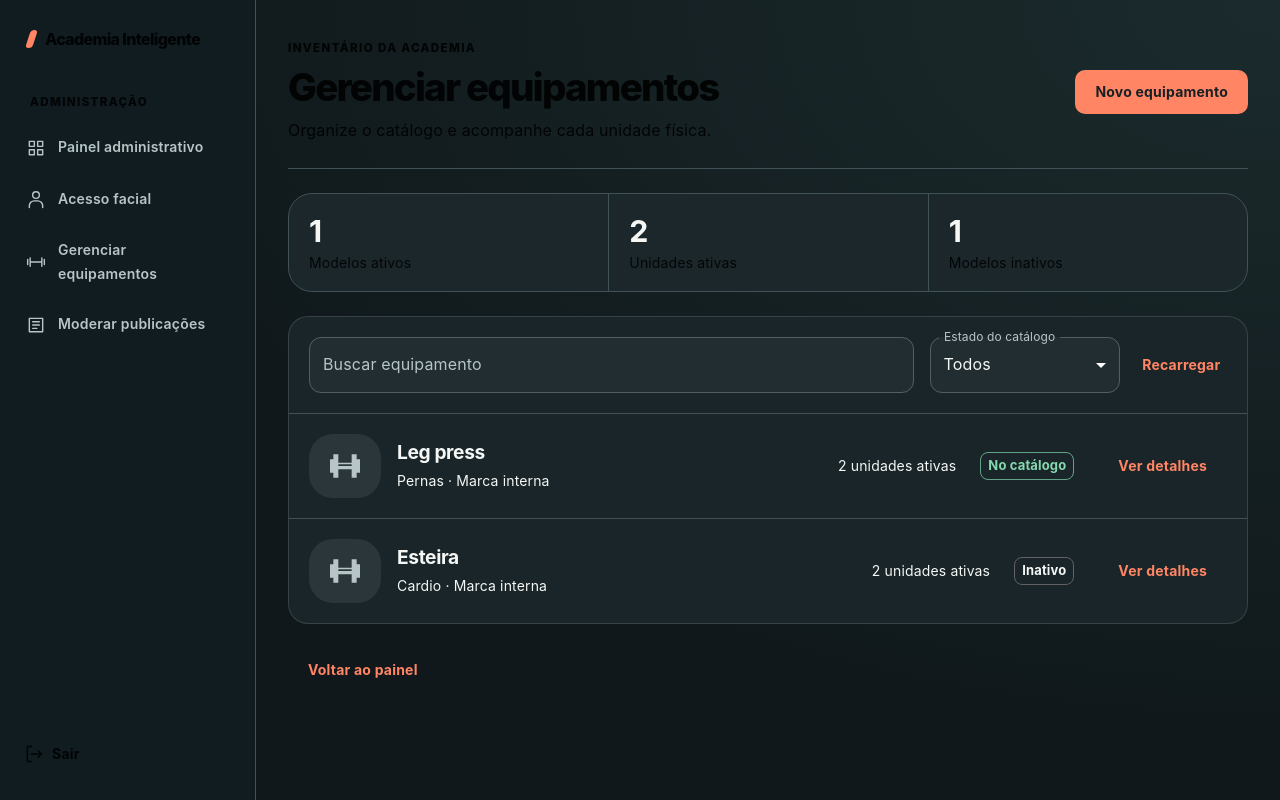
Test case: edits unit metadata while preserving its separate operational state
The image size is (1280, 800).
Click the button with aria-label "Ver detalhes de Leg press": (1163,466) x1=1098 y1=444 x2=1227 y2=488
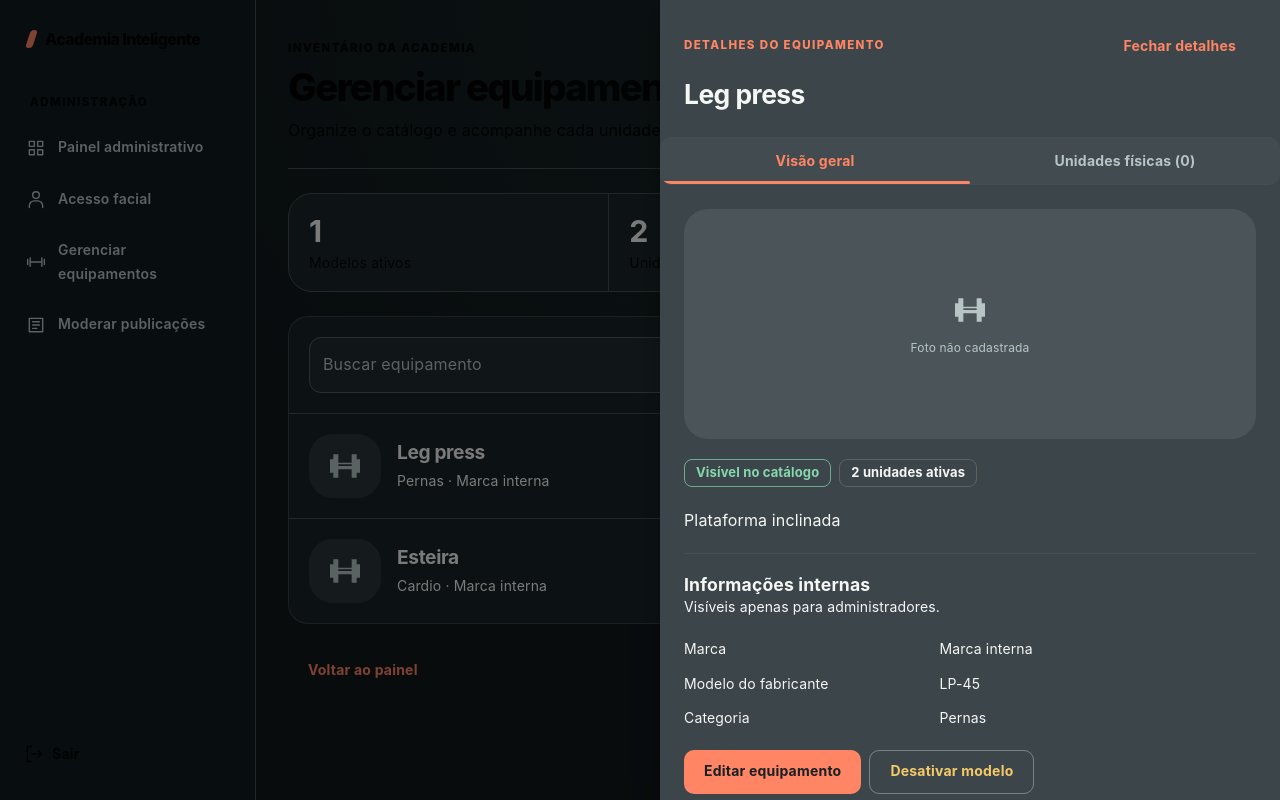
Click the tab "Unidades físicas (0)": (1125,161) x1=970 y1=137 x2=1279 y2=185
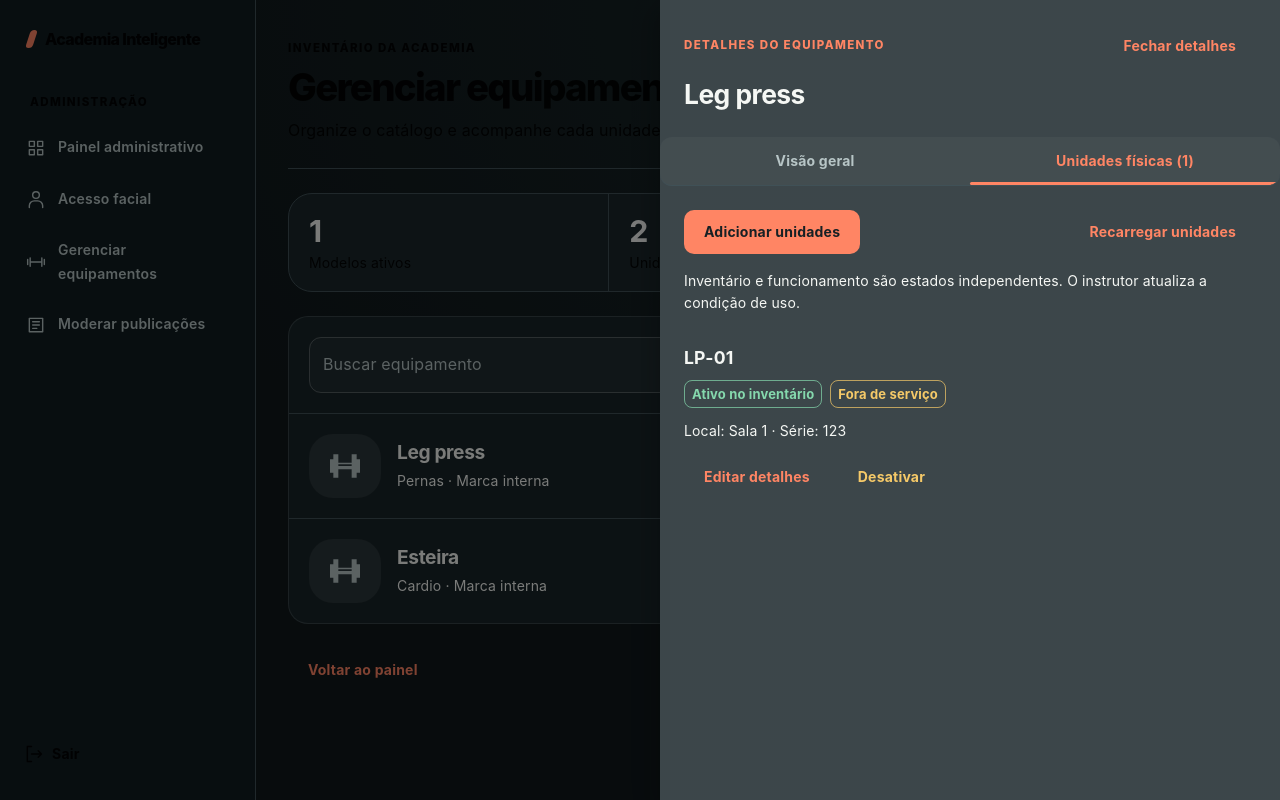
Expected: the text "Fora de serviço" is shown, x1=831 y1=382 x2=945 y2=407
Click the button with aria-label "Editar LP-01": (757,477) x1=684 y1=455 x2=830 y2=499
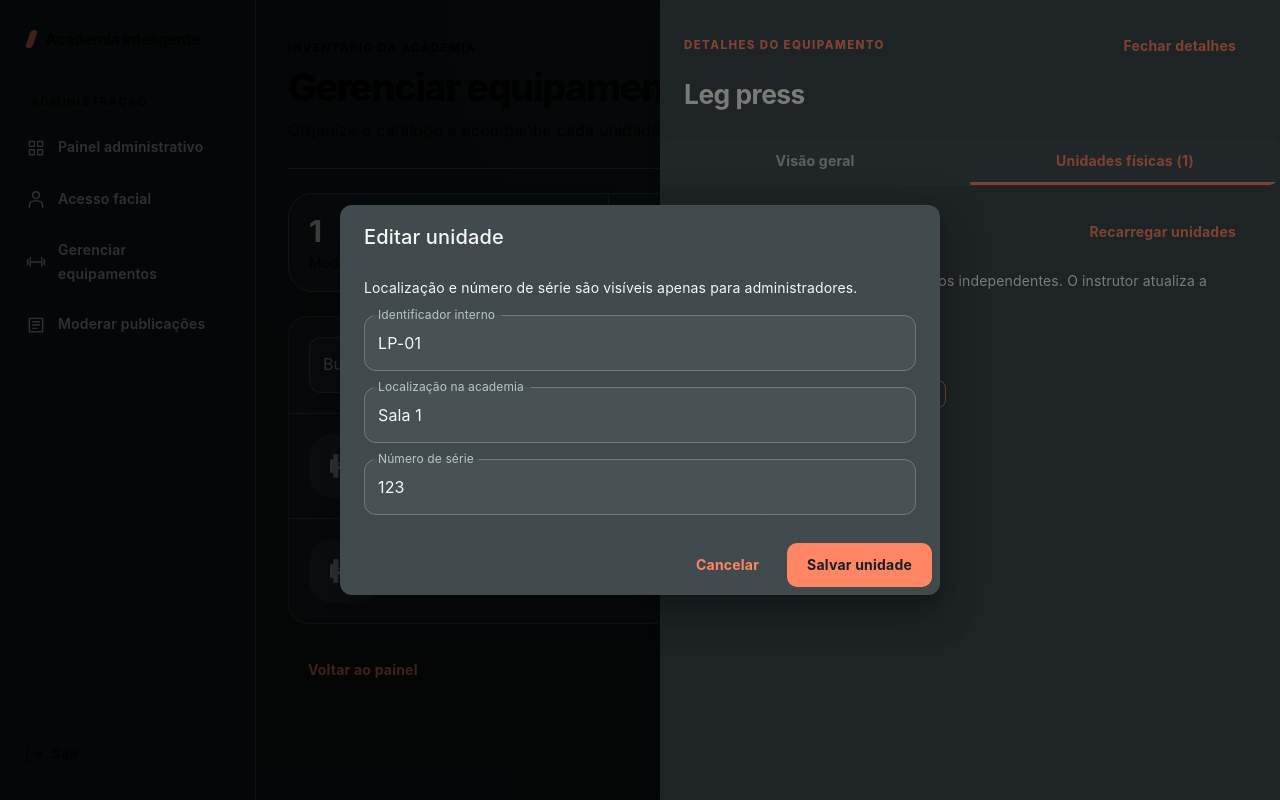
Replace the text in the field labelled "Identificador interno" with "LP-99": (640,343) x1=364 y1=315 x2=916 y2=371
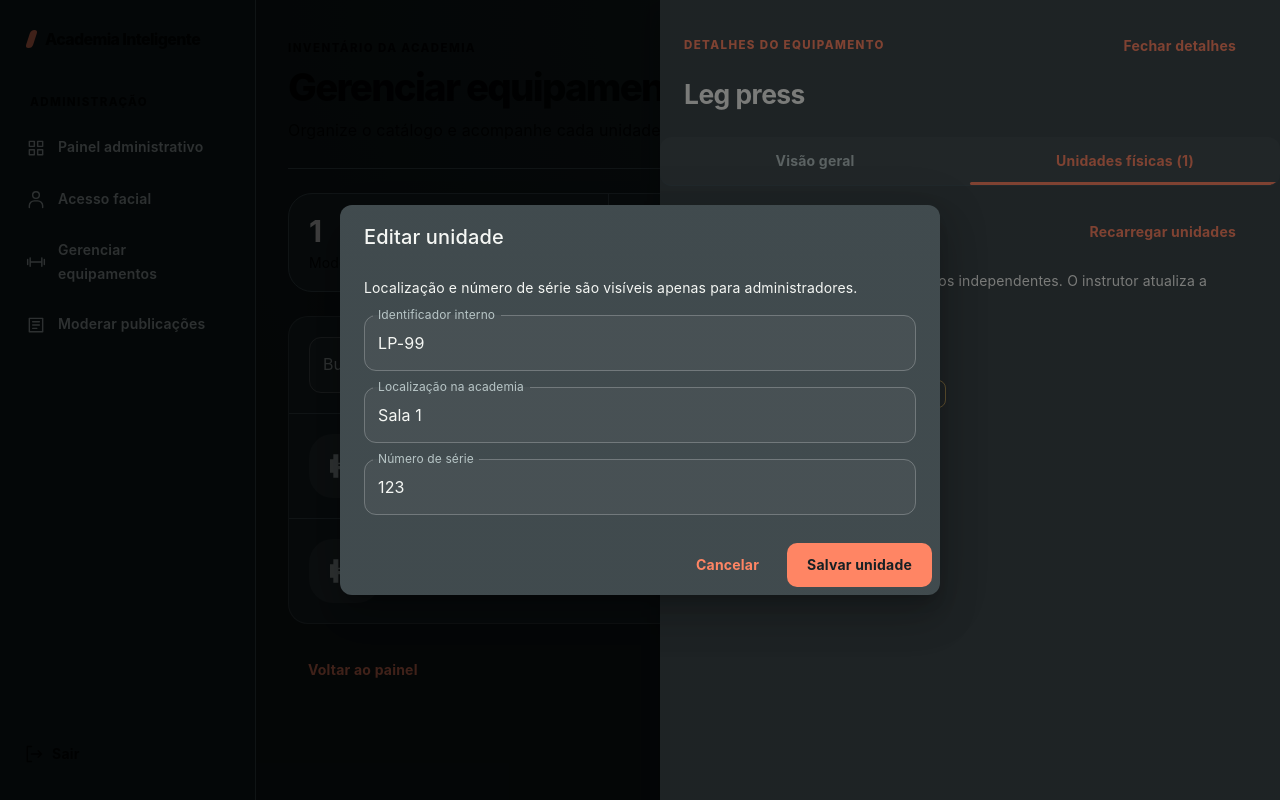
Replace the text in the field labelled "Localização na academia" with "Sala 2": (640,415) x1=364 y1=387 x2=916 y2=443
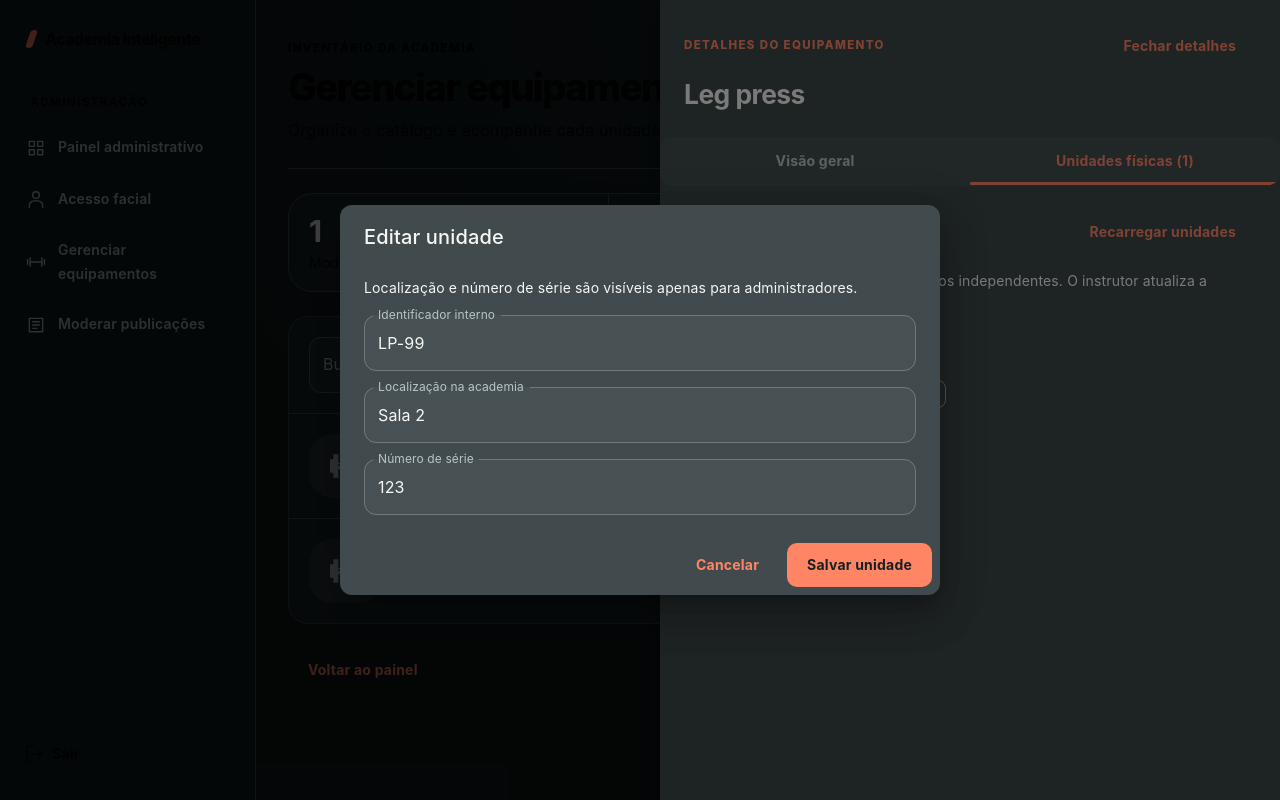
Click the button "Salvar unidade": (860,565) x1=787 y1=543 x2=932 y2=587
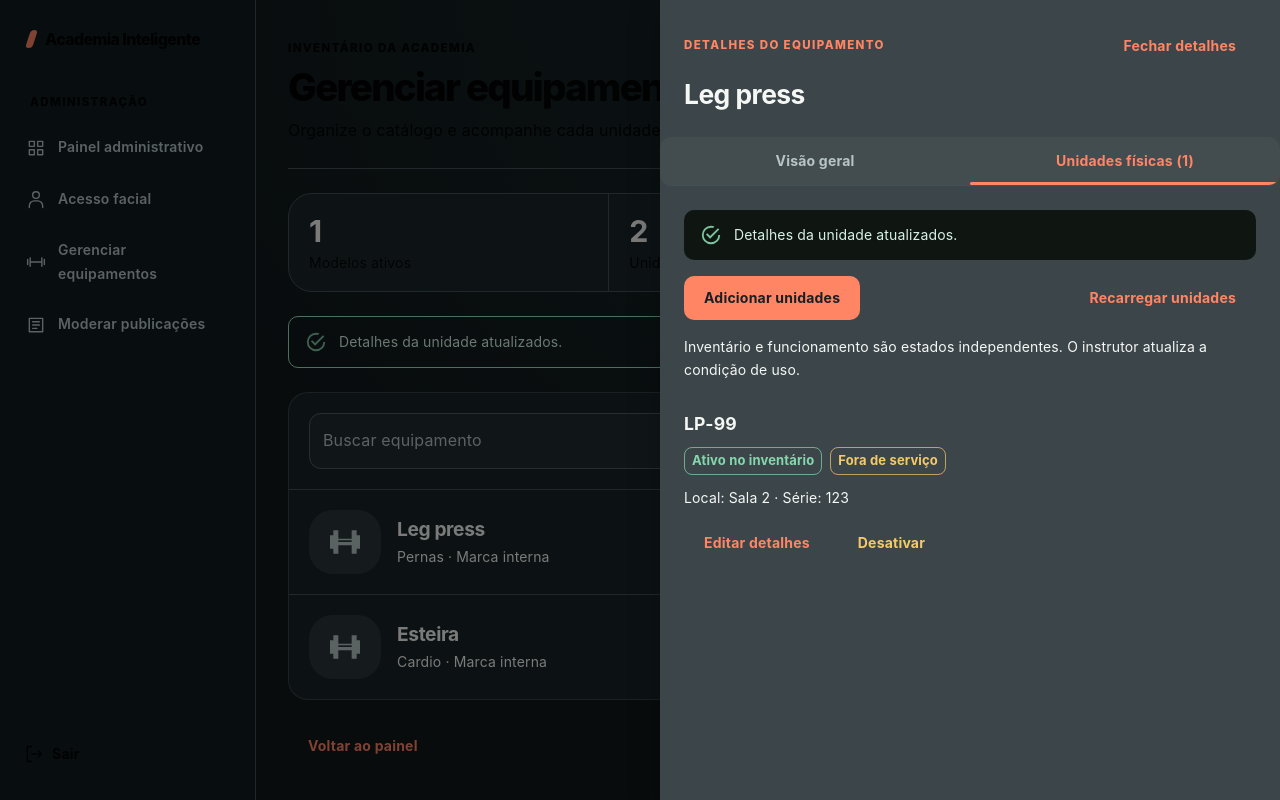
Expected: the text "Fora de serviço" is shown, x1=831 y1=448 x2=945 y2=474
Expected: the heading "LP-99" is shown, x1=684 y1=413 x2=737 y2=434
